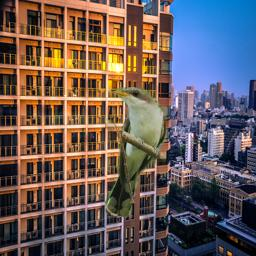Cuckoo: (105, 87, 166, 217)
